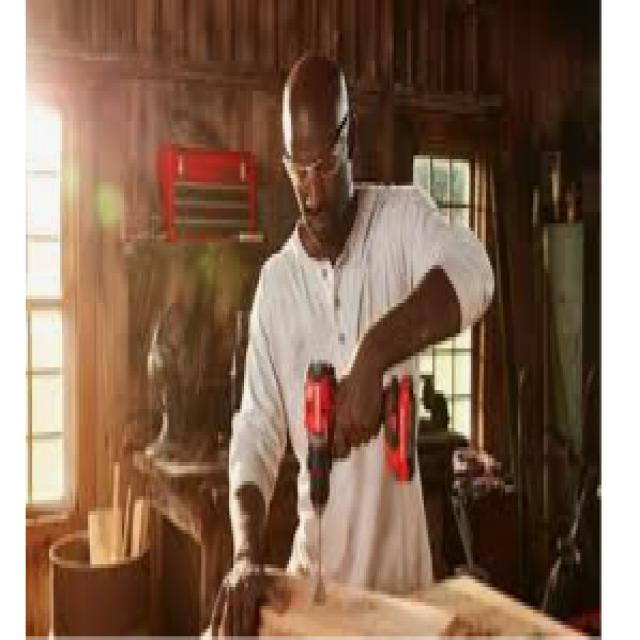glasses: (275, 132, 355, 188)
